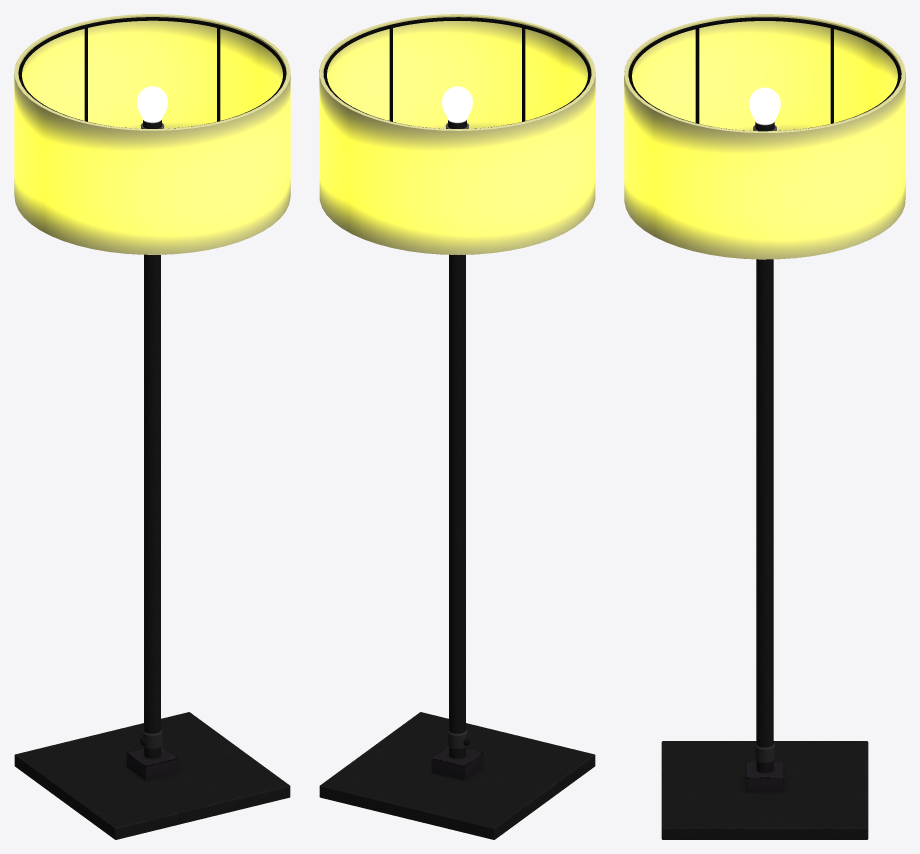
File: electronic-2.glb
The picture shows the model from 3 angles, left to right: view 1: azimuth 30°, elevation 25°; view 2: azimuth 150°, elevation 25°; view 3: azimuth 270°, elevation 25°; orthographic projection.
Parts seen in each view (by area): view 1: standing_lamp.1; view 2: standing_lamp.1; view 3: standing_lamp.1.
Boxes of the visible parts, x1,y1,x2,y2 form: standing_lamp.1: (14,14,290,839); standing_lamp.1: (319,14,595,839); standing_lamp.1: (624,14,905,839).
Bounding box in the file's own units: 0.0818 × 0.2318 × 0.0818.
1 material, 1 textured.
